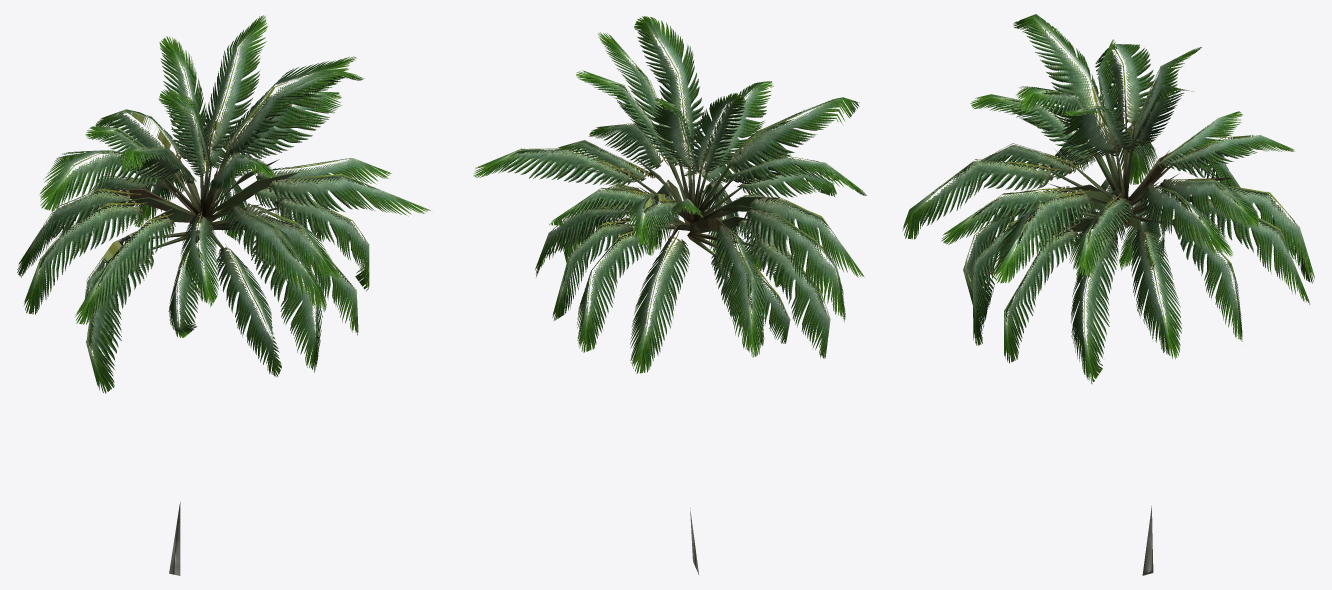
The model's file is palm-young-a.lod0.glb.
3 renders of one model, left to right at view 1: azimuth 30°, elevation 25°; view 2: azimuth 150°, elevation 25°; view 3: azimuth 270°, elevation 25°, orthographic. The views are drawn at different scales.
Parts seen in each view (by area): view 1: SM_MZRa_Palm_B081_MI_MZRa_Palm_B08a_0, SM_MZRa_Palm_B081_MI_MZRa_Palm_B08b_0; view 2: SM_MZRa_Palm_B081_MI_MZRa_Palm_B08a_0, SM_MZRa_Palm_B081_MI_MZRa_Palm_B08b_0; view 3: SM_MZRa_Palm_B081_MI_MZRa_Palm_B08a_0, SM_MZRa_Palm_B081_MI_MZRa_Palm_B08b_0.
Part boxes in pixels (box(x1,y1,x2,y2)): SM_MZRa_Palm_B081_MI_MZRa_Palm_B08a_0: box(17, 15, 430, 393); SM_MZRa_Palm_B081_MI_MZRa_Palm_B08b_0: box(101, 122, 307, 575); SM_MZRa_Palm_B081_MI_MZRa_Palm_B08a_0: box(473, 16, 866, 373); SM_MZRa_Palm_B081_MI_MZRa_Palm_B08b_0: box(608, 114, 779, 575); SM_MZRa_Palm_B081_MI_MZRa_Palm_B08a_0: box(902, 14, 1314, 384); SM_MZRa_Palm_B081_MI_MZRa_Palm_B08b_0: box(1016, 93, 1233, 575).
Size of the model in its own units: 3.7 by 5 by 3.49.
Materials: 2 (2 with a texture image).
